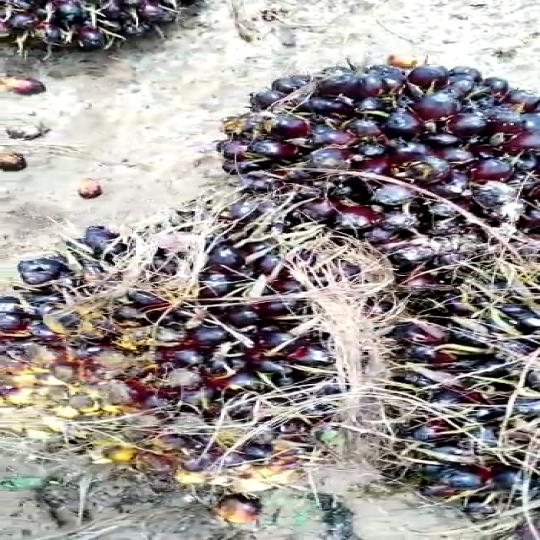mentah: (207, 178, 535, 522), (0, 195, 271, 500), (222, 46, 540, 257)
